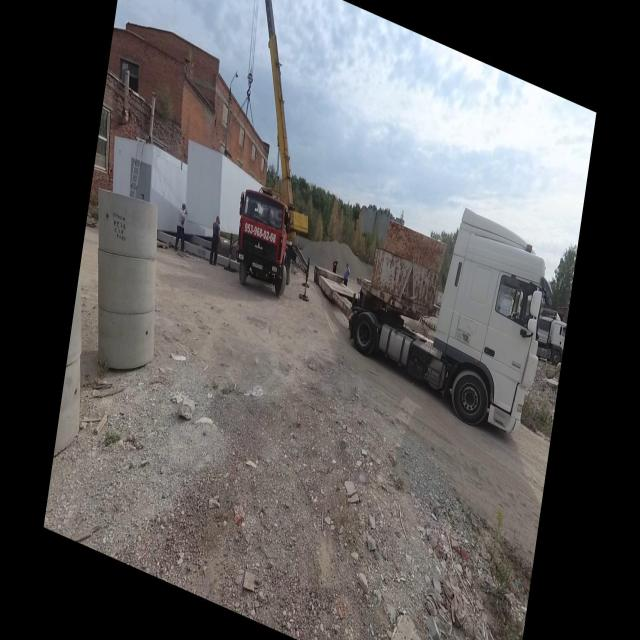crane: (212, 0, 351, 316)
